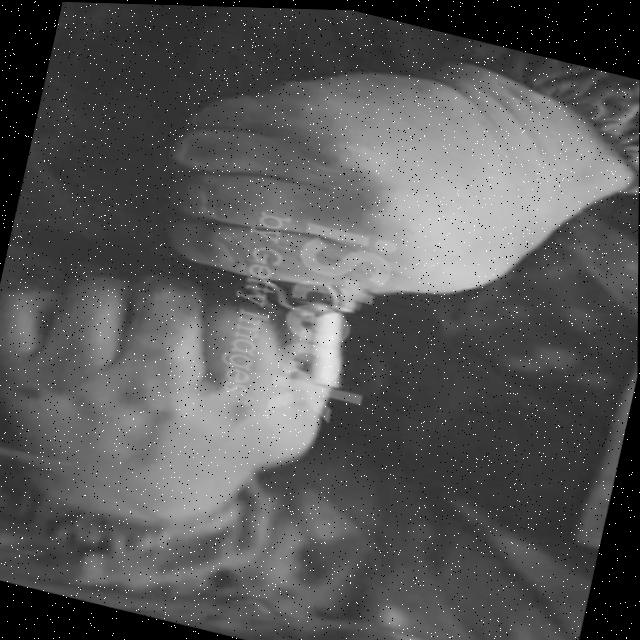grenade: (261, 278, 364, 389)
